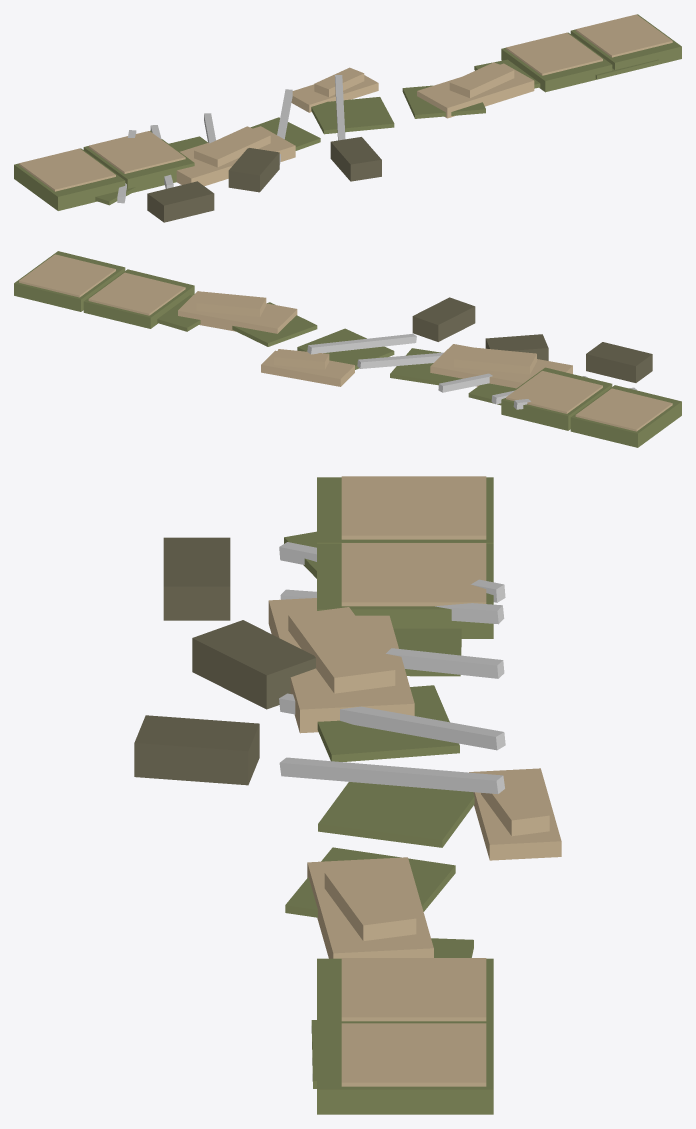
File: SM_MuroHesco_v3_RemateSacos_e3_Brecha_LOD1.fbx
The picture shows the model from 3 angles, top to bottom: view 1: azimuth 30°, elevation 25°; view 2: azimuth 150°, elevation 25°; view 3: azimuth 270°, elevation 25°; orthographic projection. The views are drawn at different scales.
Parts seen in each view (by area): view 1: SM_bloques.muro_hesco_estados_v15_LOD1; view 2: SM_bloques.muro_hesco_estados_v15_LOD1; view 3: SM_bloques.muro_hesco_estados_v15_LOD1.
Boxes of the visible parts, x1,y1,x2,y2 form: SM_bloques.muro_hesco_estados_v15_LOD1: [14, 14, 681, 222]; SM_bloques.muro_hesco_estados_v15_LOD1: [14, 251, 681, 447]; SM_bloques.muro_hesco_estados_v15_LOD1: [134, 476, 561, 1114].
Bounding box in the file's own units: 9.96 × 0.351 × 2.95.
